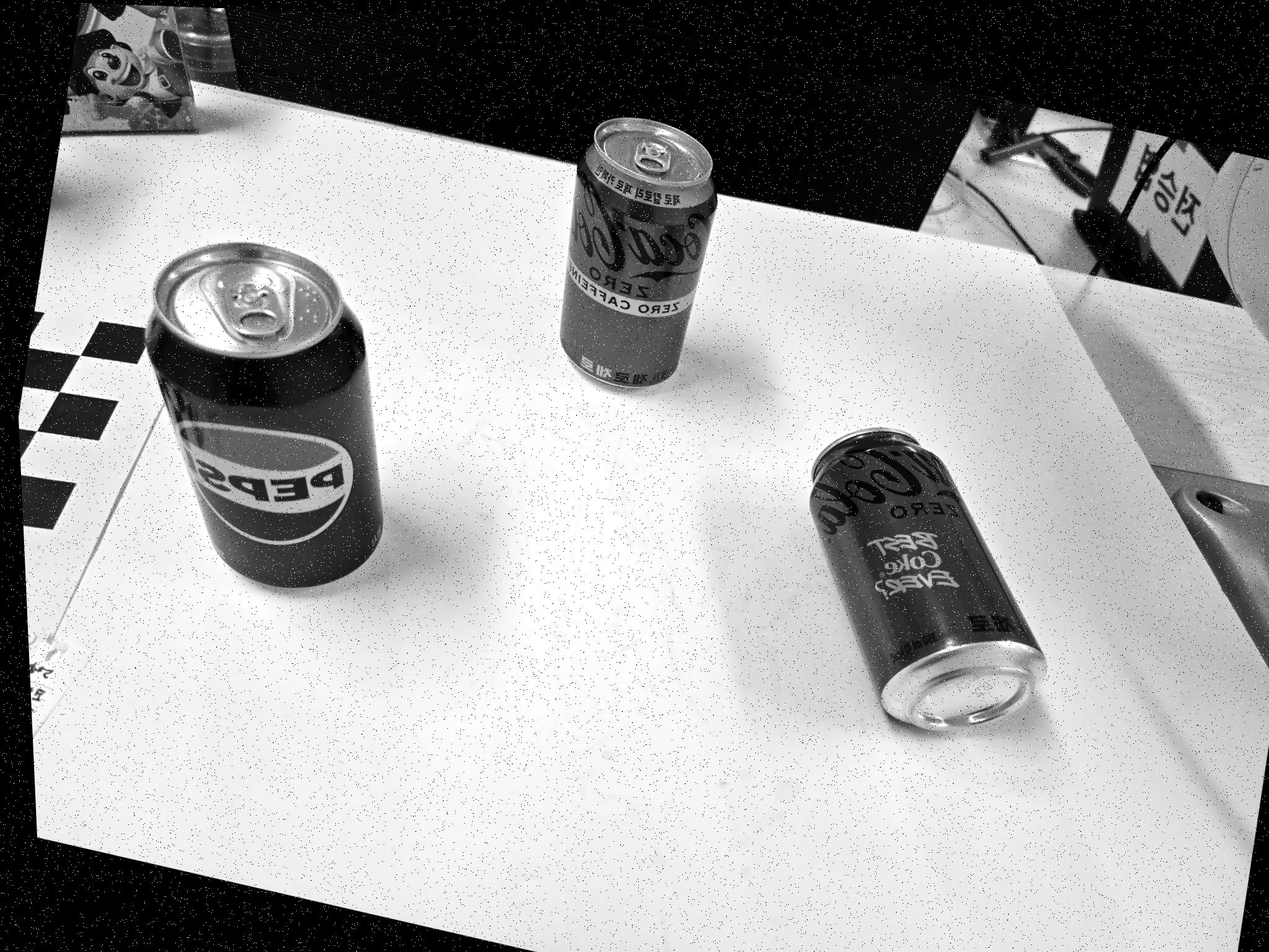can_coke_decaf: (557, 118, 718, 391)
can_coke_zero: (808, 426, 1045, 734)
can_pepsi: (140, 239, 386, 592)
